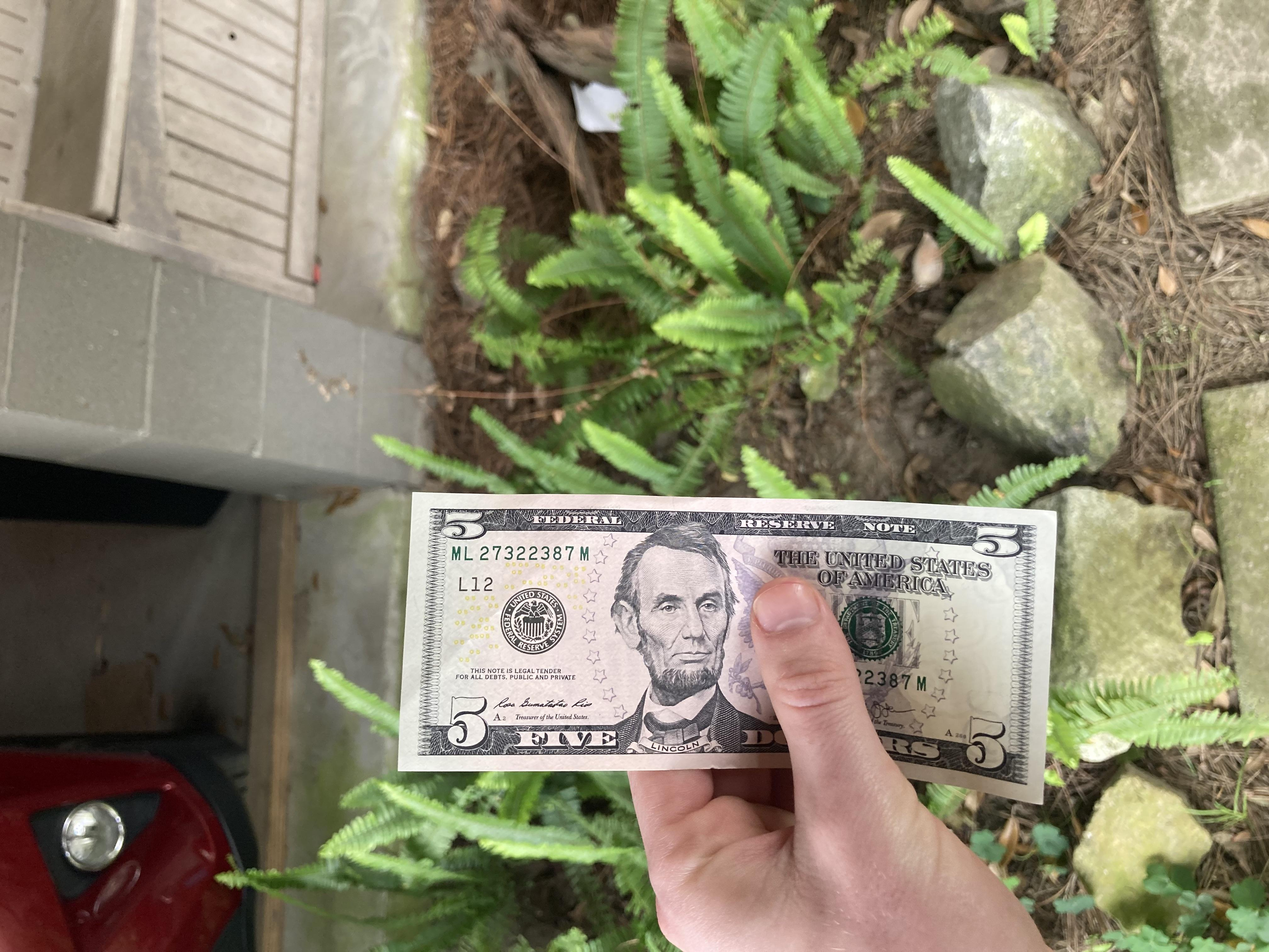five-front: (195, 299, 616, 795)
